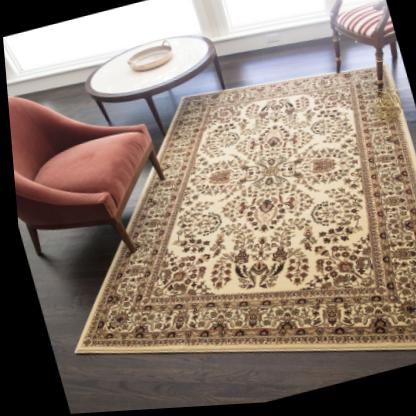Carpet: (69, 70, 416, 351)
